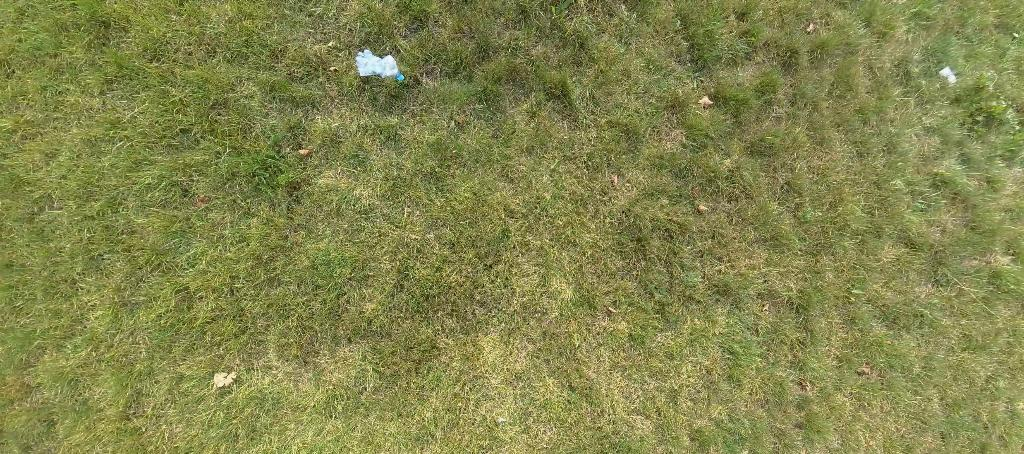garbage: (351, 47, 407, 84)
